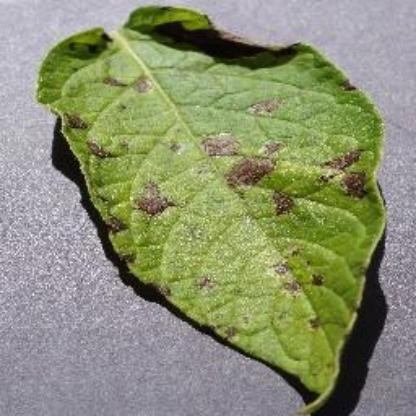Early-Blight: (30, 3, 394, 410)
